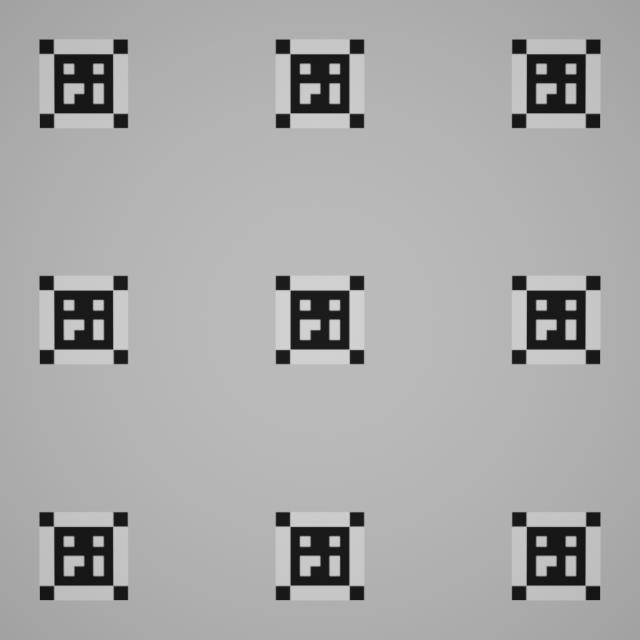aruco: (290, 523, 352, 583), (291, 51, 351, 112), (529, 289, 584, 351), (529, 55, 586, 113), (56, 52, 112, 111), (55, 291, 112, 348), (290, 290, 348, 346), (56, 529, 113, 583), (530, 528, 585, 582)
